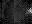person: (26, 8, 31, 14)
